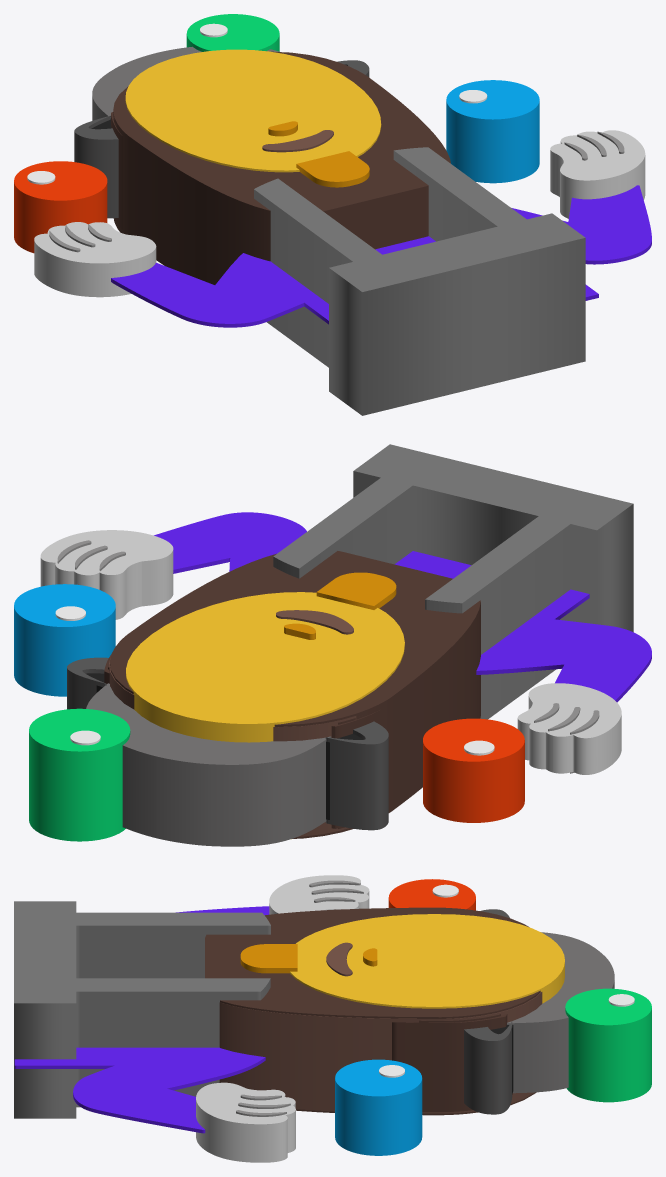
Rendered from emoji_u1f939_200d_2640.glb.
3 views of the same model, one above another, from view 1: azimuth 30°, elevation 25°; view 2: azimuth 150°, elevation 25°; view 3: azimuth 270°, elevation 25° (orthographic). The views are drawn at different scales.
Visible parts, largest first — view 1: emoji_u1f939_200d_2640; view 2: emoji_u1f939_200d_2640; view 3: emoji_u1f939_200d_2640.
Boxes of the visible parts, x1,y1,x2,y2 form: emoji_u1f939_200d_2640: (14, 14, 651, 415); emoji_u1f939_200d_2640: (14, 444, 651, 846); emoji_u1f939_200d_2640: (14, 875, 651, 1162).
Size of the model in its own units: 0.0309 by 0.0066 by 0.033.
